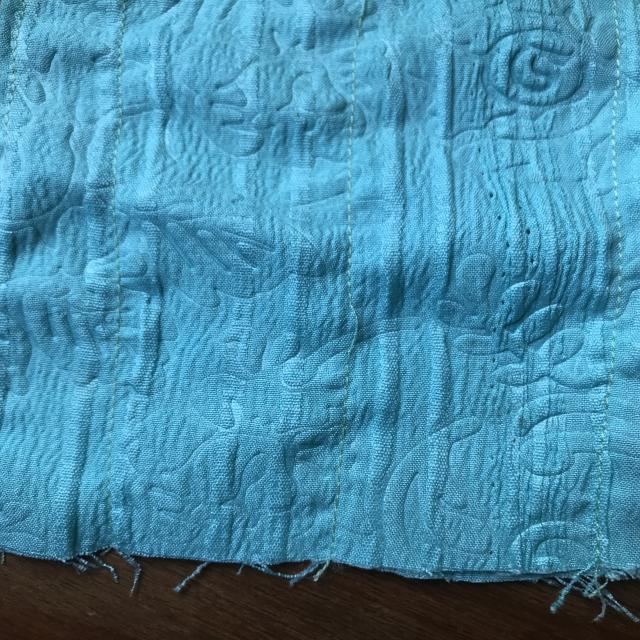good: (337, 173, 363, 241)
skip: (338, 288, 364, 372)
